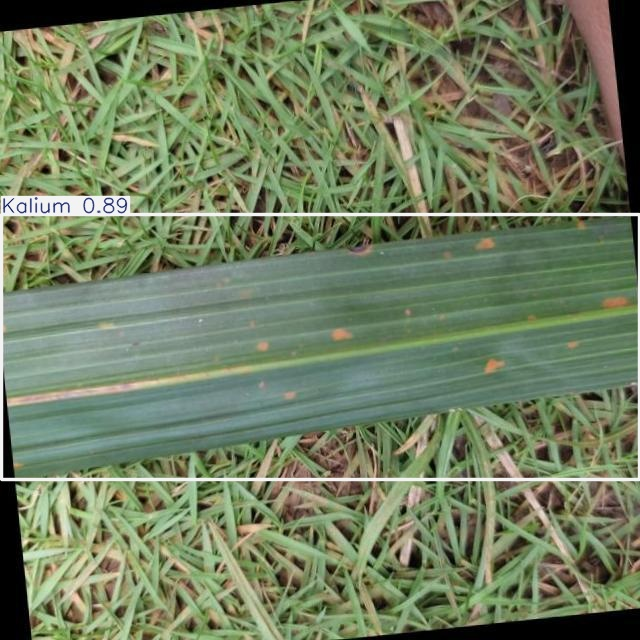Kalium: (1, 214, 640, 479)
